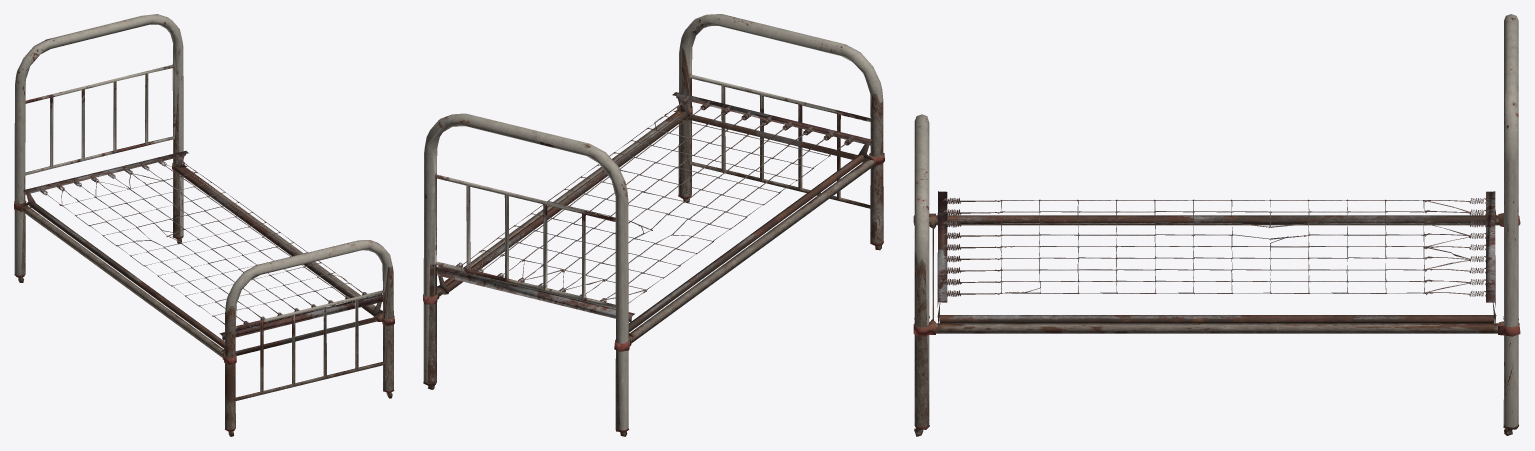
Rendered from old_bed_frame.glb.
The picture shows the model from 3 angles, left to right: view 1: azimuth 30°, elevation 25°; view 2: azimuth 150°, elevation 25°; view 3: azimuth 270°, elevation 25°; orthographic projection. The views are drawn at different scales.
Visible parts, largest first — view 1: old_bed_frame; view 2: old_bed_frame; view 3: old_bed_frame.
Boxes of the visible parts, x1,y1,x2,y2 form: old_bed_frame: (14, 14, 394, 436); old_bed_frame: (423, 14, 884, 436); old_bed_frame: (913, 14, 1520, 436).
Bounding box in the file's own units: 0.9065 × 1.2 × 2.
1 material, 1 textured.
